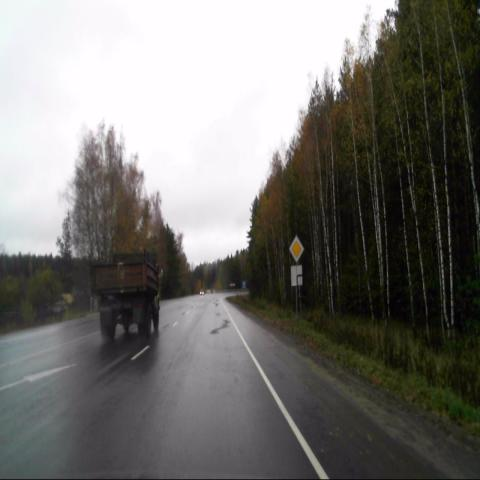8_13: (289, 264, 303, 286)
